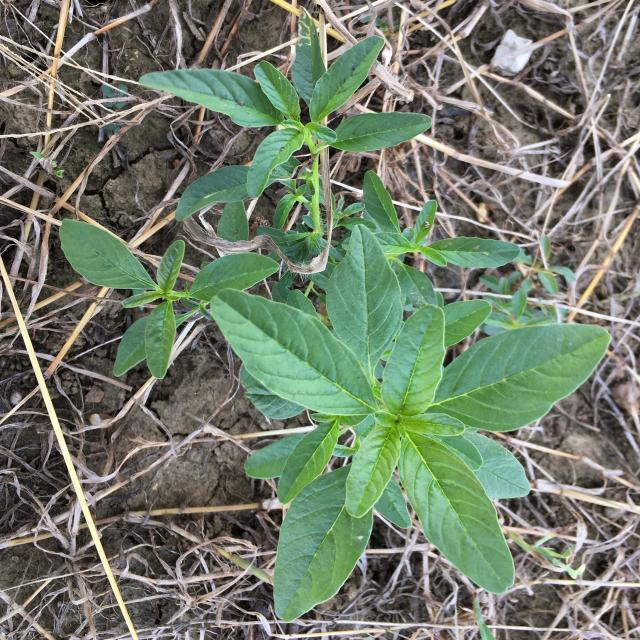Waterhemp: (59, 7, 613, 623)
